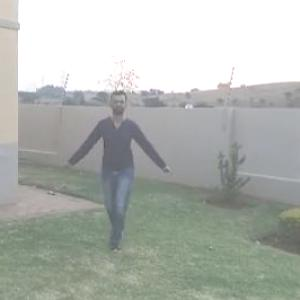land: (71, 95, 166, 229)
